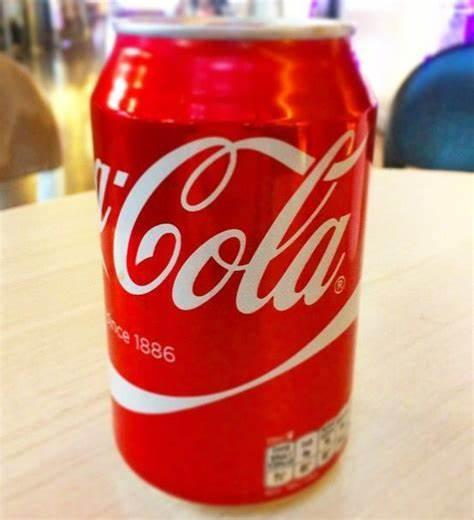metal: (92, 29, 374, 504)
